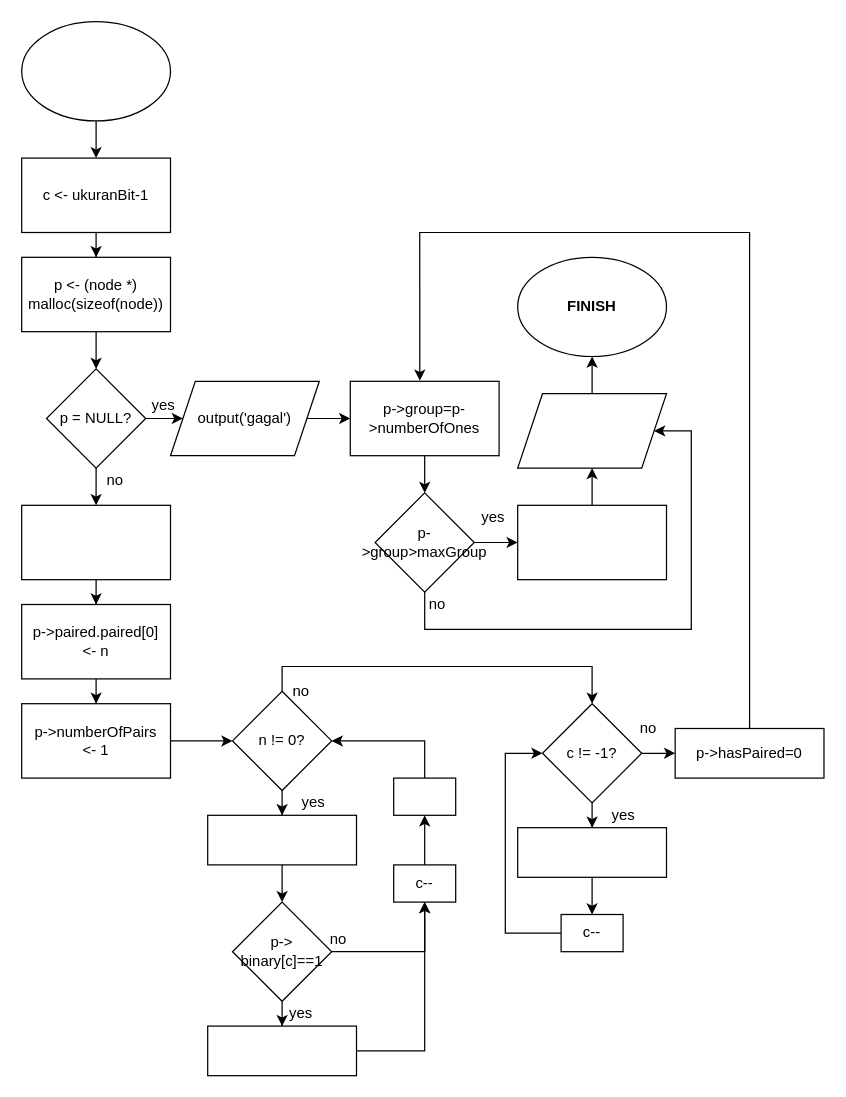
Some shapes in this 846 by 1097 pixel diagram are drawn without their labels. The centre of each missing label's shape, as x and y in pixels:
"maxGroup=p->group" goes at pixel 591 542.
"n /= 2" goes at pixel 424 796.
"p->binary[c]=0" goes at pixel 591 851.
"p->binary[c]=n%2" goes at pixel 281 839.
"p->numberOfOnes <- 0" goes at pixel 95 542.
"p->numberOfOnes++" goes at pixel 281 1050.
"return p" goes at pixel 591 430.
"START" goes at pixel 95 70.
